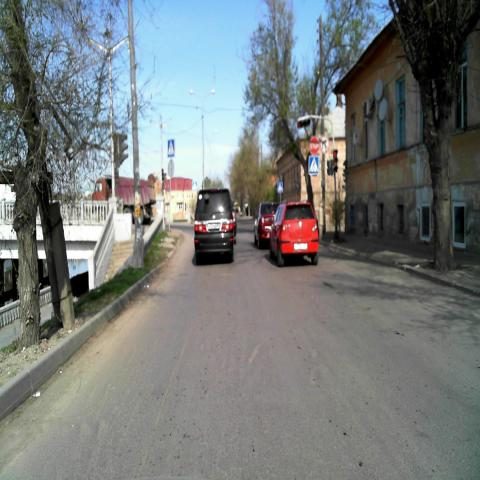3_18: (320, 135, 330, 153)
